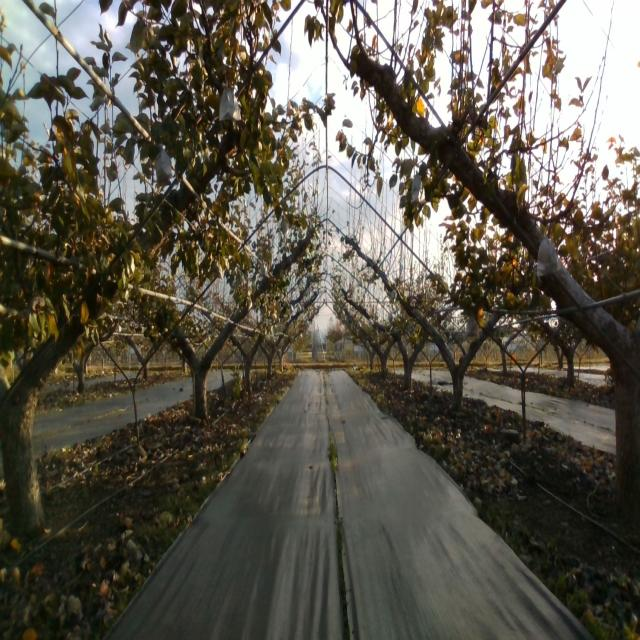pearbags: (536, 232, 562, 276), (219, 79, 242, 122), (155, 144, 172, 188), (410, 170, 426, 205), (466, 311, 480, 338), (207, 259, 223, 280)
